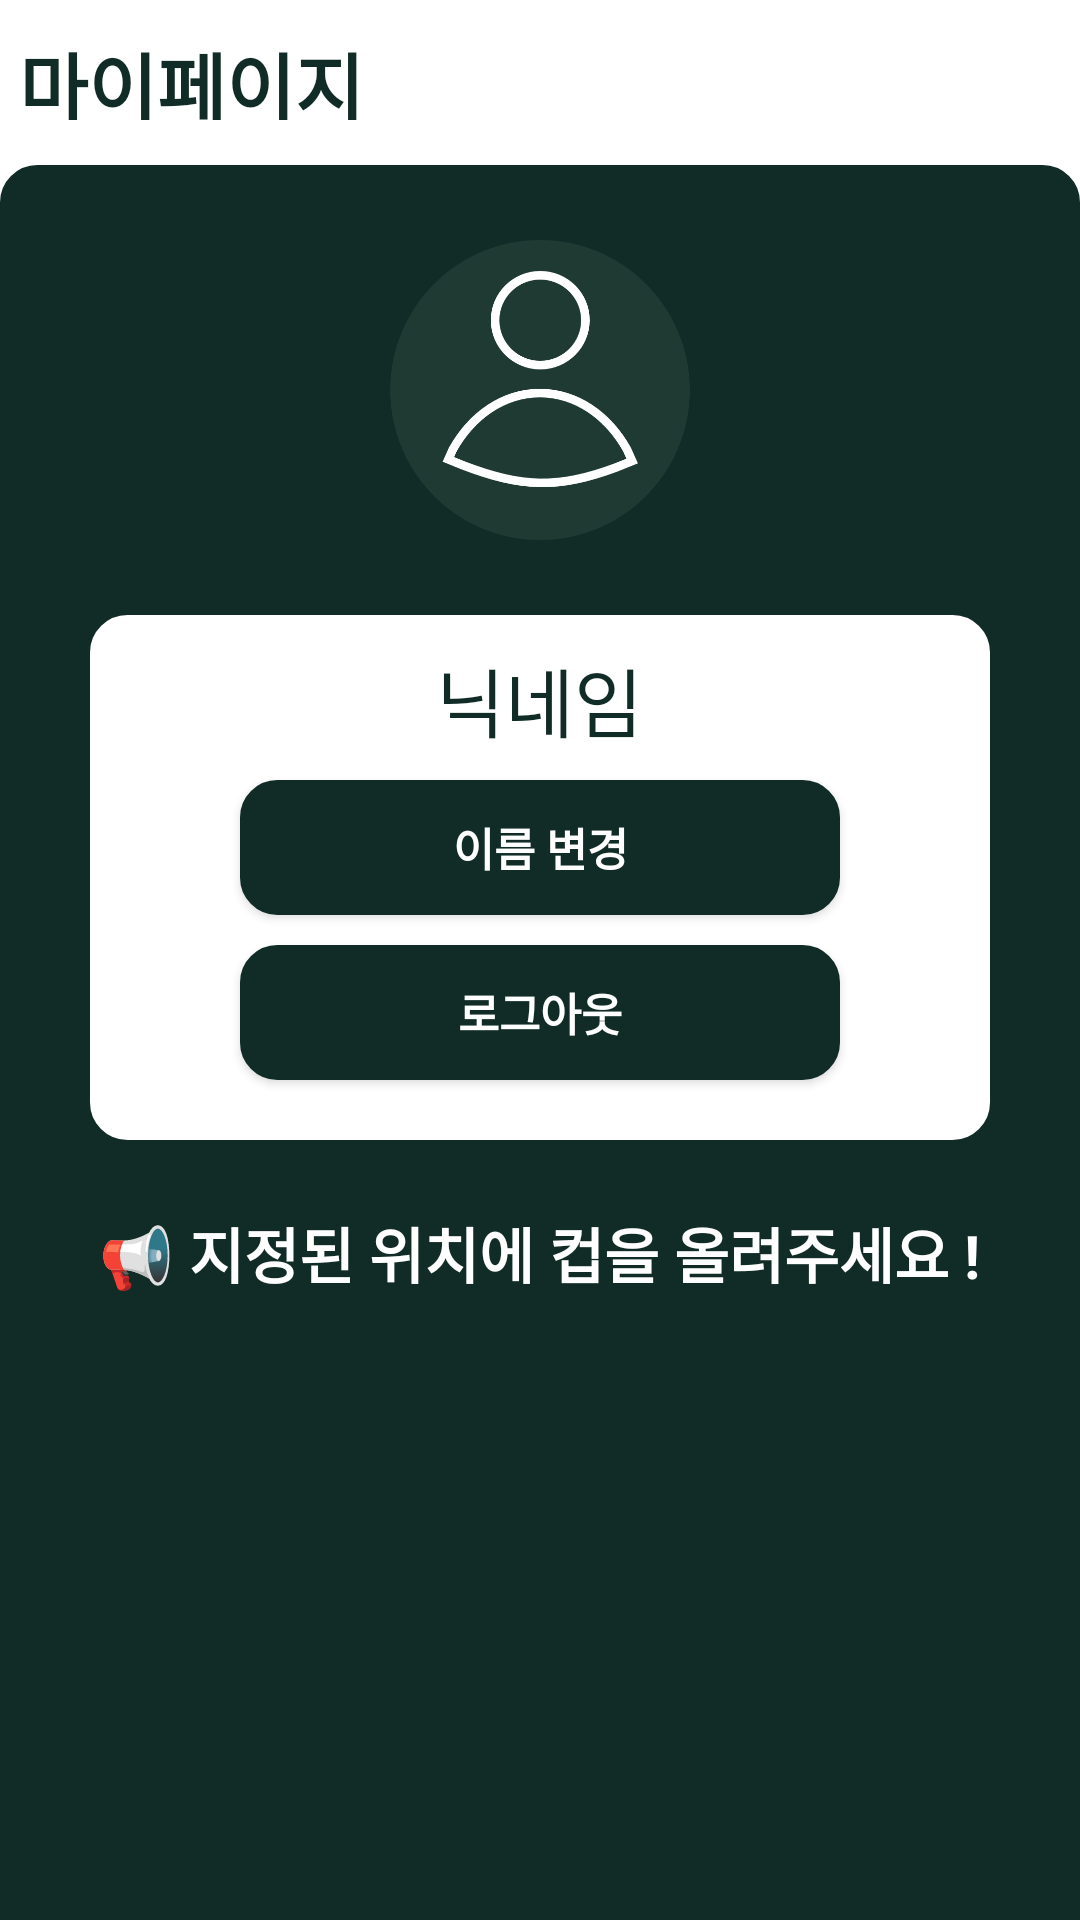

Screen size 1080px x 1920px. Icon name, then its box in pixels as (x1, y1, x2, y2):
userimg: (390, 240, 690, 540)
